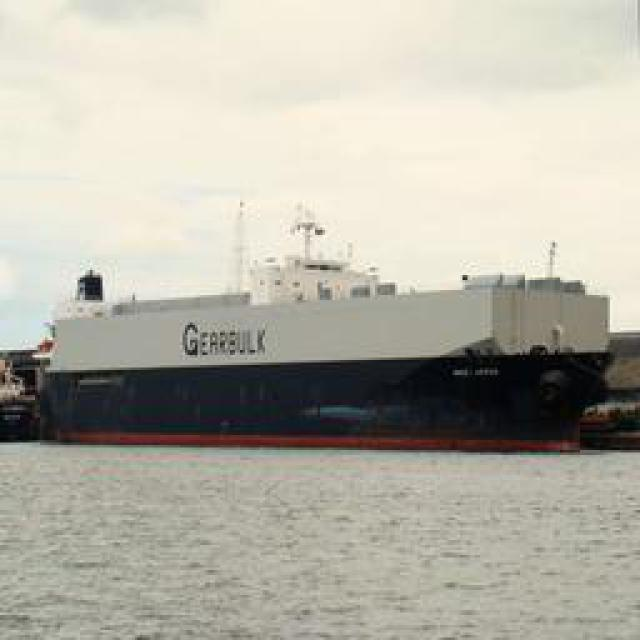Ship: (40, 217, 613, 430)
